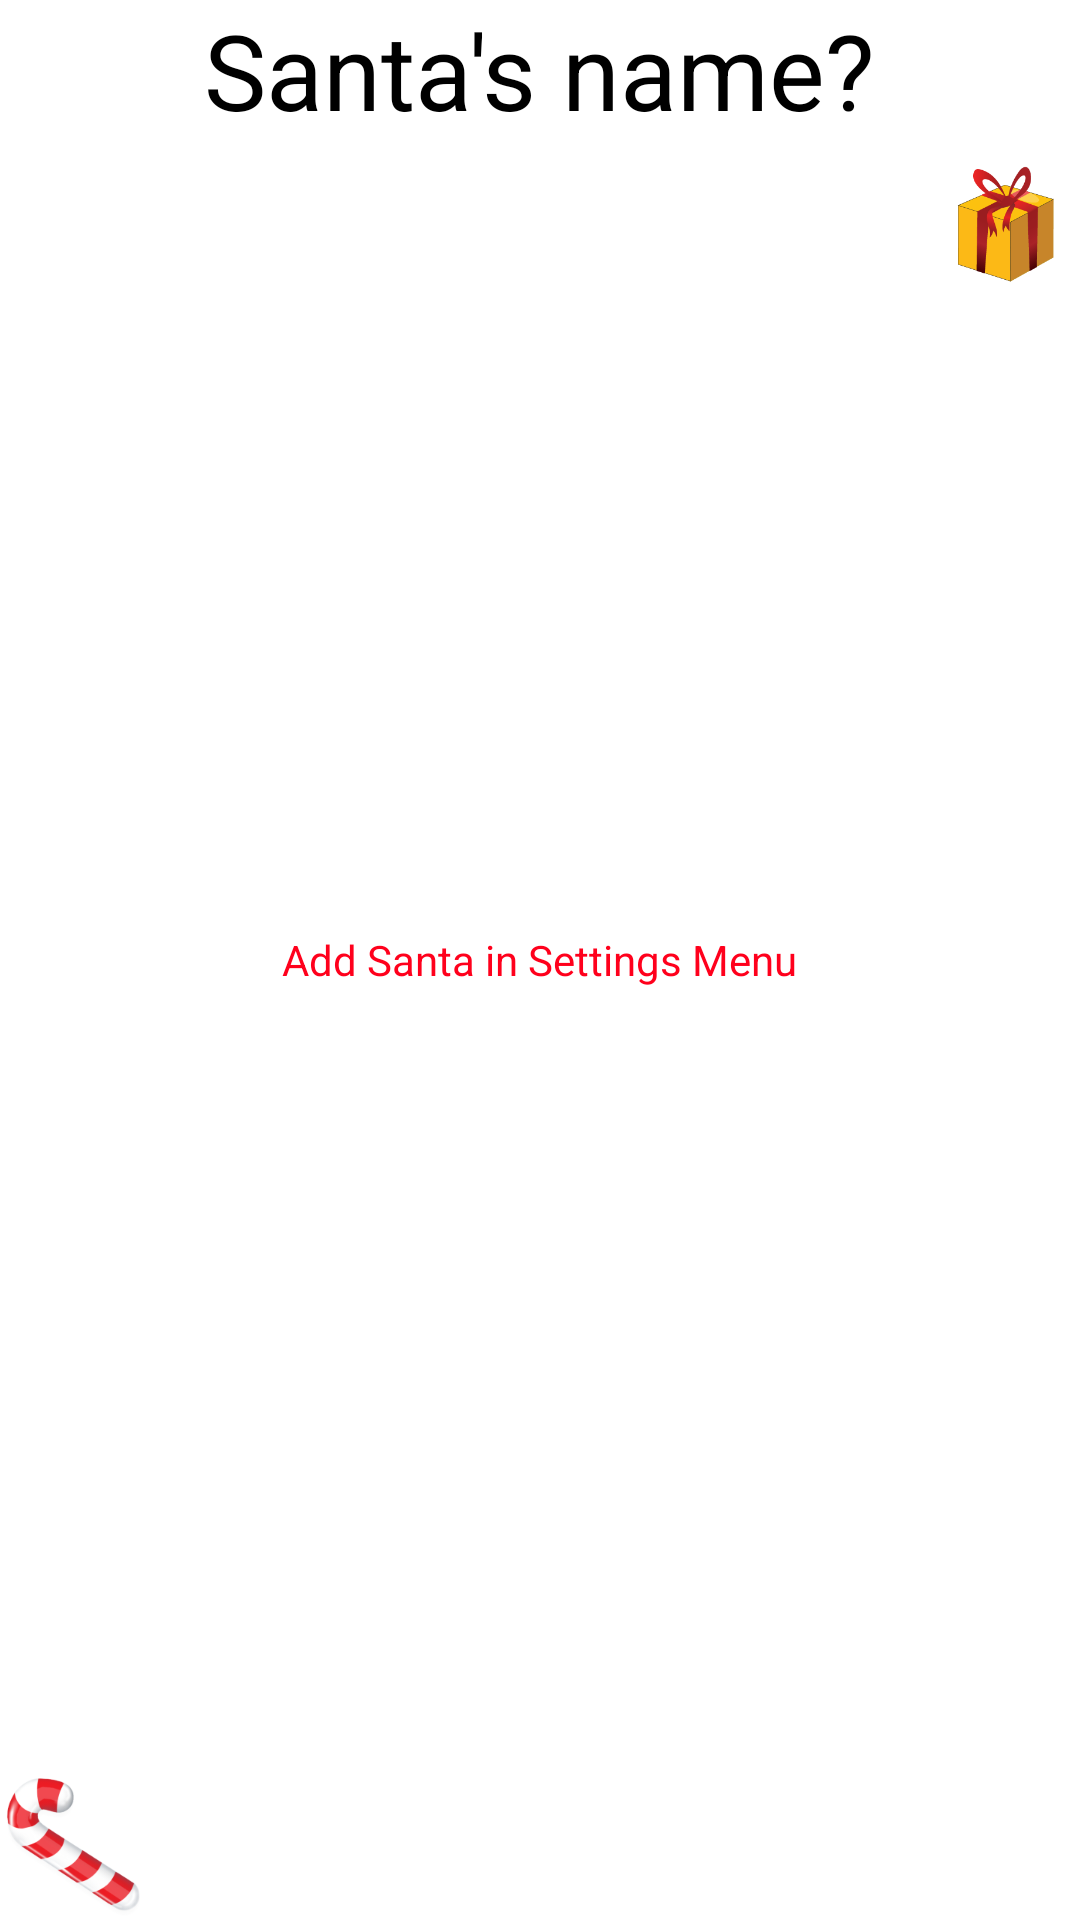

Screen size 1080x1920. Icon name, then its center in pixels as (x,y):
cane: (73,1844)
giftbox: (1006,224)
